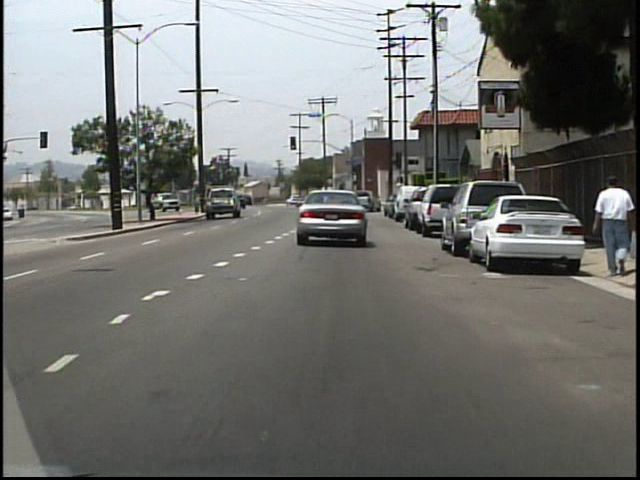person: (588, 173, 630, 279)
